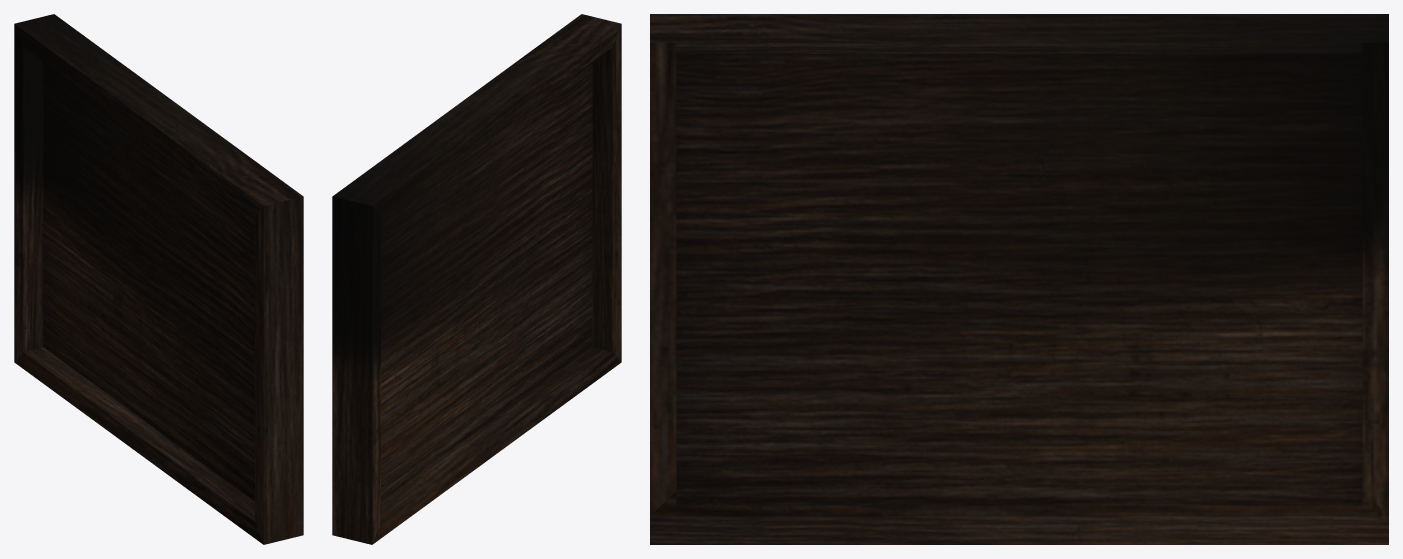
Rendered from shots.obj.
3 views of the same model, side by side, from view 1: azimuth 30°, elevation 25°; view 2: azimuth 150°, elevation 25°; view 3: azimuth 270°, elevation 25° (orthographic). The views are drawn at different scales.
Visible parts, largest first — view 1: Shots_Cube.001; view 2: Shots_Cube.001; view 3: Shots_Cube.001.
Boxes of the visible parts, bbox=[...] form: Shots_Cube.001: bbox=[14, 14, 303, 544]; Shots_Cube.001: bbox=[332, 14, 621, 544]; Shots_Cube.001: bbox=[650, 14, 1388, 544].
Bounding box in the file's own units: 0.2158 × 1.76 × 2.34.
Materials: 1 (1 with a texture image).
